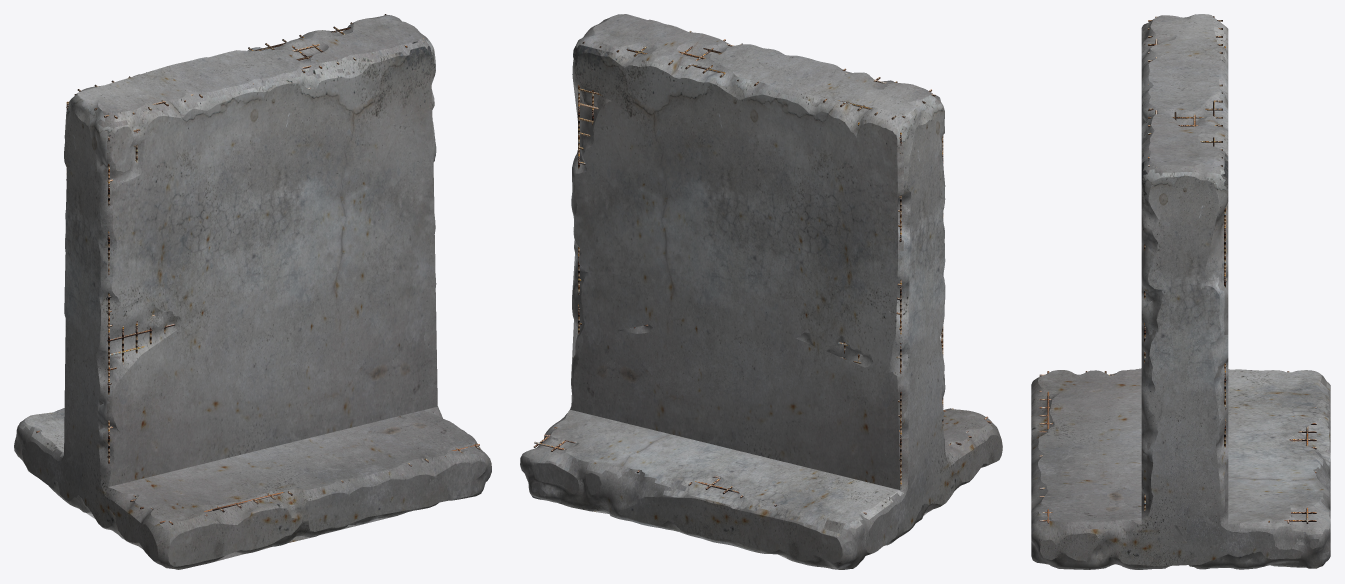
The model's file is Bet_bloc1.fbx.
3 renders of one model, left to right at view 1: azimuth 30°, elevation 25°; view 2: azimuth 150°, elevation 25°; view 3: azimuth 270°, elevation 25°, orthographic. The views are drawn at different scales.
Parts seen in each view (by area): view 1: Plane_dmg.002; view 2: Plane_dmg.002; view 3: Plane_dmg.002.
Part boxes in pixels (<box>): Plane_dmg.002: <box>14,14,491,569</box>; Plane_dmg.002: <box>520,14,1002,569</box>; Plane_dmg.002: <box>1031,14,1330,569</box>.
Size of the model in its own units: 200 by 237 by 160.
